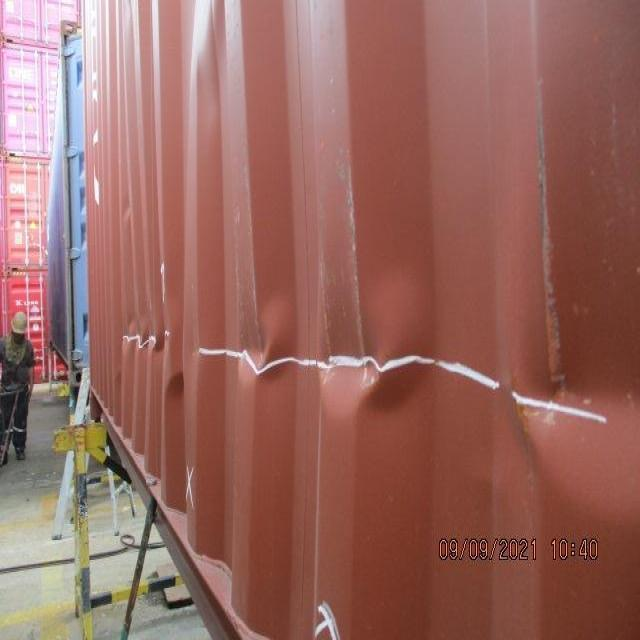dent: (114, 272, 638, 538), (156, 4, 250, 105)
